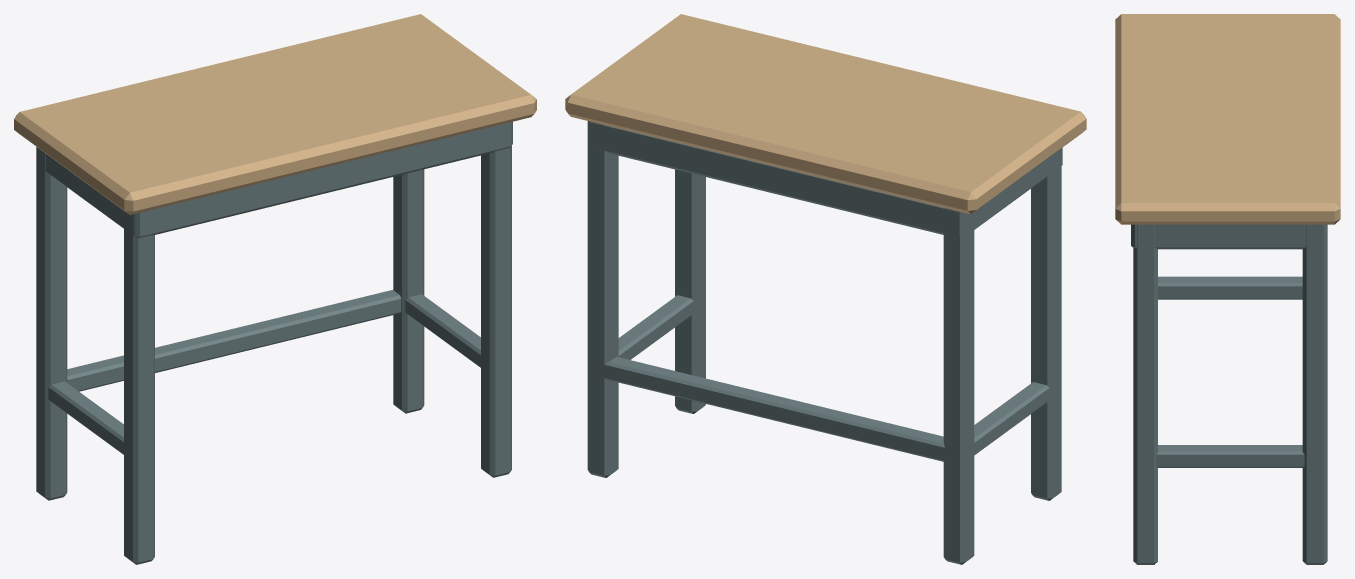
File: Storage-DropCounter.fbx
The picture shows the model from 3 angles, left to right: view 1: azimuth 30°, elevation 25°; view 2: azimuth 150°, elevation 25°; view 3: azimuth 270°, elevation 25°; orthographic projection. The views are drawn at different scales.
Parts seen in each view (by area): view 1: Birch Countertop, Under Counter Rail, Leg.001, Leg, Leg.003, Lower Cross Brace, Leg.002, Side Brace.001, Side Brace; view 2: Birch Countertop, Under Counter Rail, Leg, Leg.002, Leg.001, Lower Cross Brace, Leg.003, Side Brace, Side Brace.001; view 3: Birch Countertop, Leg.002, Leg.003, Under Counter Rail, Side Brace, Side Brace.001.
Boxes of the visible parts, x1,y1,x2,y2 form: Birch Countertop: (14, 14, 536, 214); Under Counter Rail: (45, 121, 512, 237); Leg.001: (124, 211, 154, 564); Leg: (36, 147, 67, 500); Leg.003: (481, 146, 511, 477); Lower Cross Brace: (67, 290, 401, 391); Leg.002: (393, 169, 424, 413); Side Brace.001: (405, 294, 480, 367); Side Brace: (48, 381, 123, 454); Birch Countertop: (565, 14, 1086, 214); Under Counter Rail: (589, 122, 1062, 237); Leg: (943, 208, 974, 564); Leg.002: (587, 121, 618, 477); Leg.001: (1031, 148, 1061, 500); Lower Cross Brace: (598, 356, 955, 463); Leg.003: (675, 169, 705, 413); Side Brace: (974, 382, 1049, 455); Side Brace.001: (618, 295, 694, 359); Birch Countertop: (1115, 14, 1340, 224); Leg.002: (1302, 224, 1327, 564); Leg.003: (1133, 224, 1157, 564); Under Counter Rail: (1131, 224, 1306, 249); Side Brace: (1158, 276, 1302, 299); Side Brace.001: (1156, 445, 1304, 467).
Bounding box in the file's own units: 1.04 × 0.92 × 0.51.
